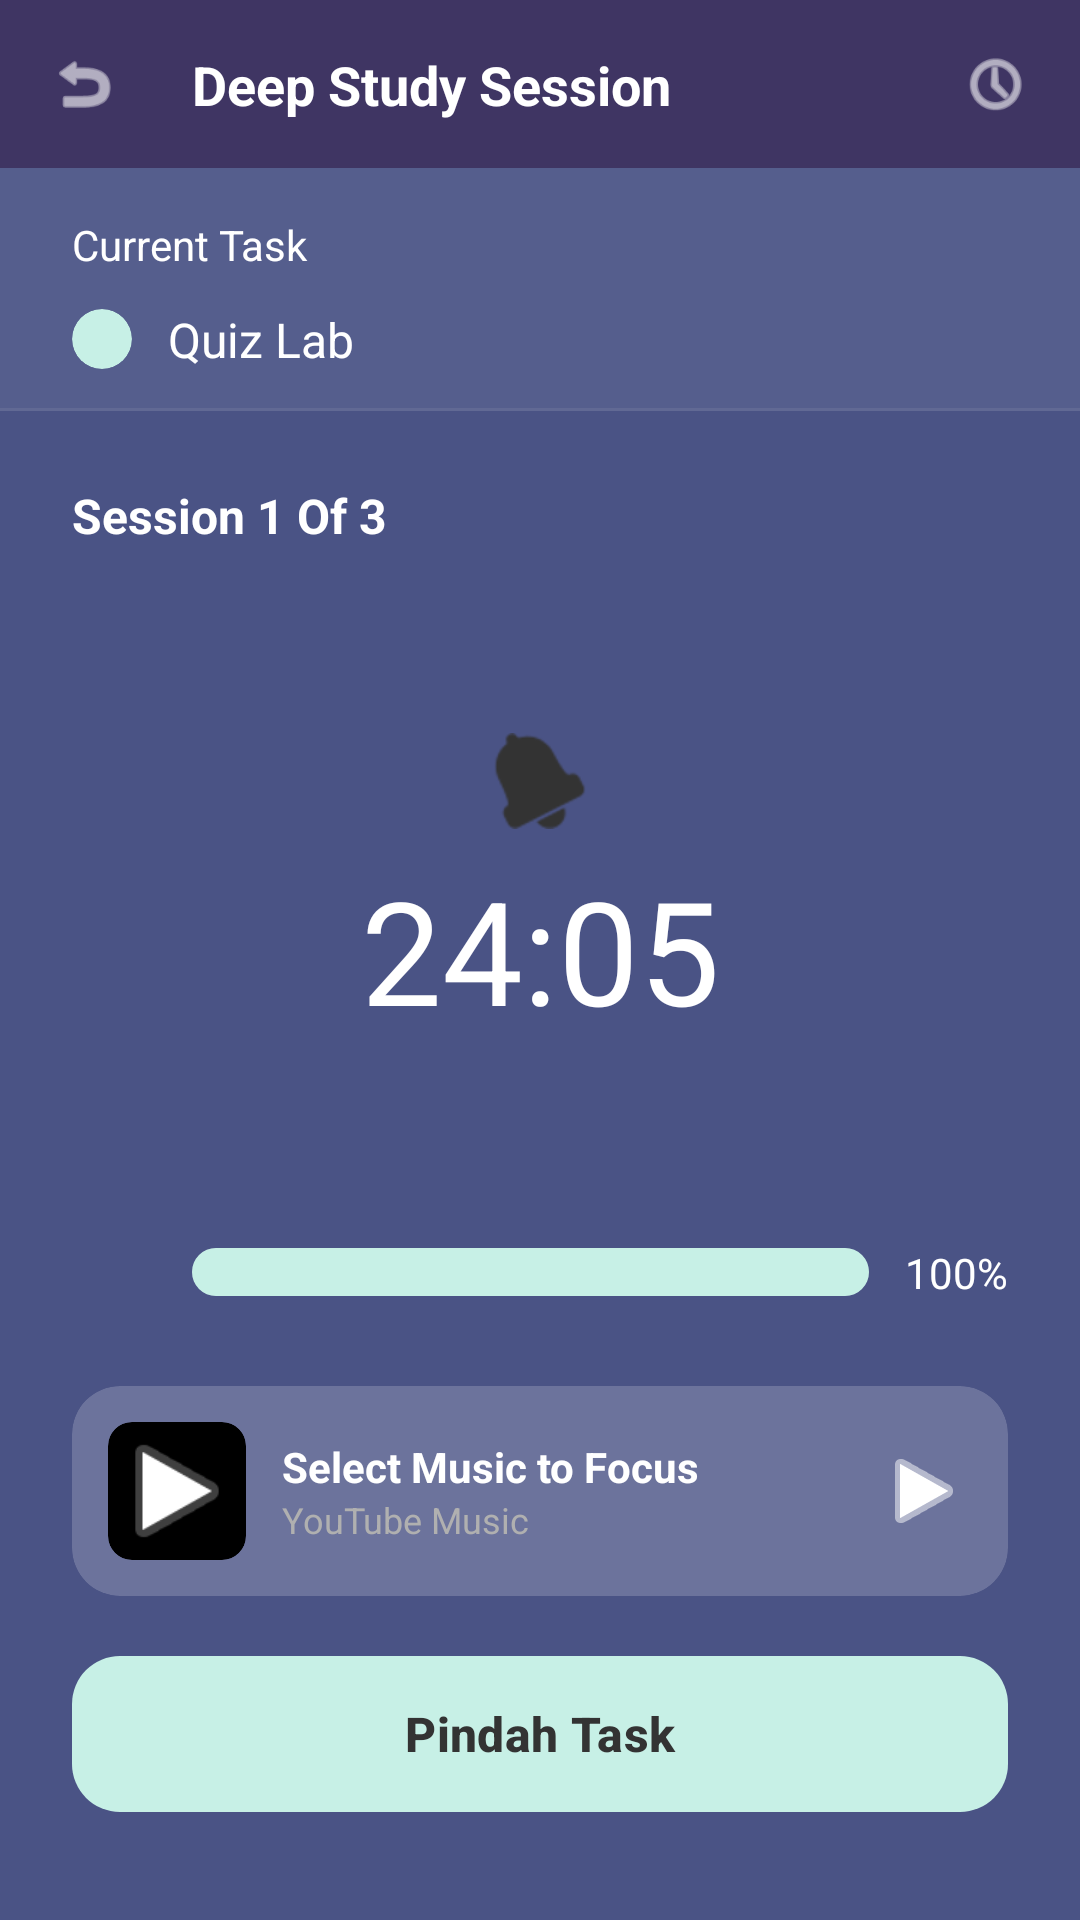

Named icons in this screenshot (1080*1920) and their centers, (x,y):
play: (177,1491), (924,1491)
popup reminder: (540,781)
recent history: (996,84)
revert: (85,84)
